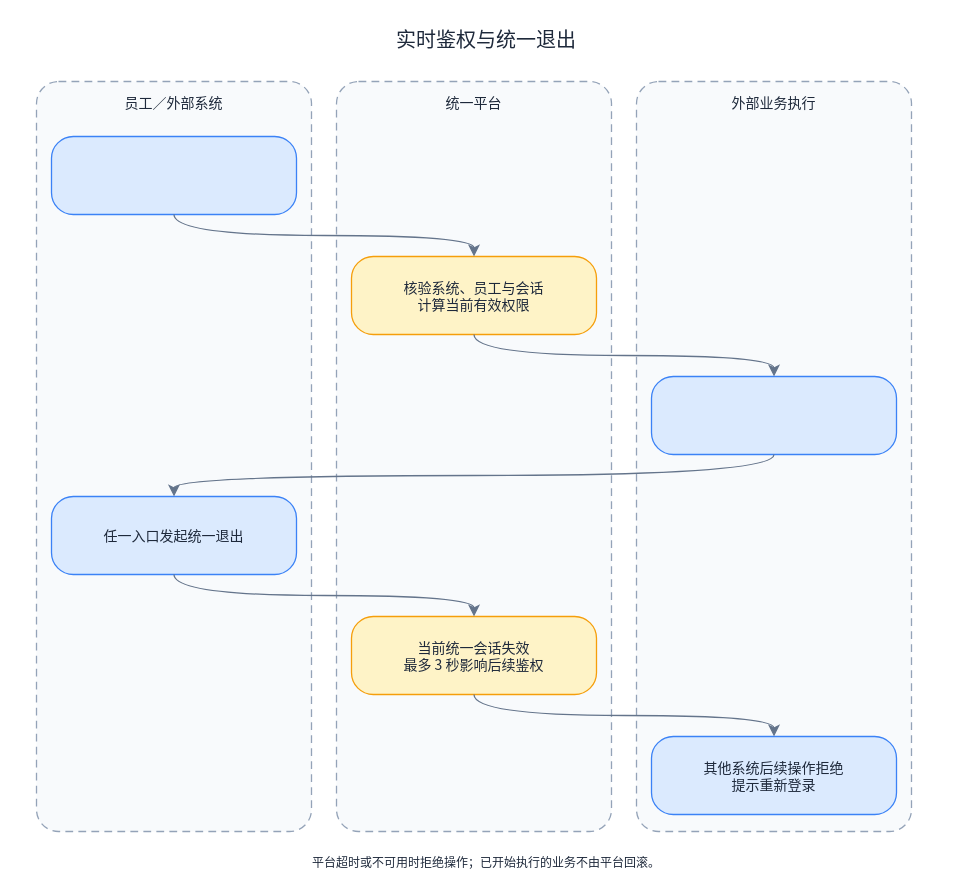
The diagram is 973 pixels wide and 895 high, and some of its shapes have lost their labels. The shapes that lost their labels are listed below. From the top down, each one's centre as x and y in pixels, then its label:
the point at 173,175: 后端发起操作鉴权
the point at 773,415: 仅允许结果执行操作 本人范围由业务系统校验
